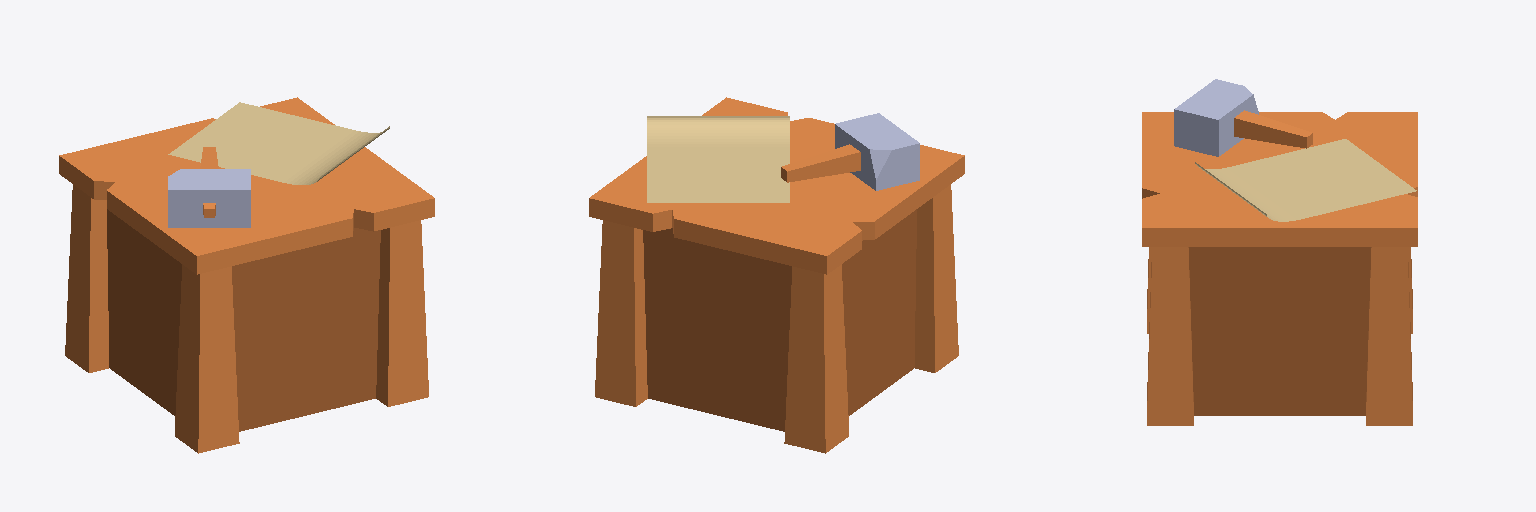
File: workbench.obj
3 renders of one model, left to right at view 1: azimuth 30°, elevation 25°; view 2: azimuth 150°, elevation 25°; view 3: azimuth 270°, elevation 25°, orthographic.
Visible parts, largest first — view 1: workbench, paper, hammer; view 2: workbench, paper, hammer; view 3: workbench, paper, hammer.
Boxes of the visible parts, x1,y1,x2,y2 form: workbench: [59, 97, 434, 453]; paper: [168, 102, 389, 184]; hammer: [168, 147, 250, 227]; workbench: [589, 97, 964, 453]; paper: [647, 116, 789, 202]; hammer: [781, 113, 919, 190]; workbench: [1142, 112, 1417, 425]; paper: [1195, 139, 1416, 221]; hammer: [1174, 79, 1312, 156].
Bounding box in the file's own units: 0.2888 × 0.2553 × 0.2688.